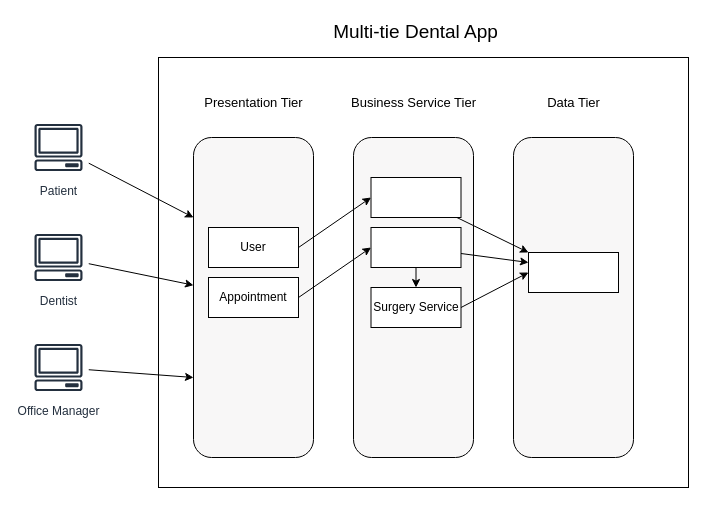
This 706x505 diagram has some shape labels left out. Each missing label, with the centre of its shape:
"Appointment Service" belongs at (415,247).
"DB Service" belongs at (573,272).
"User Service" belongs at (415,197).
